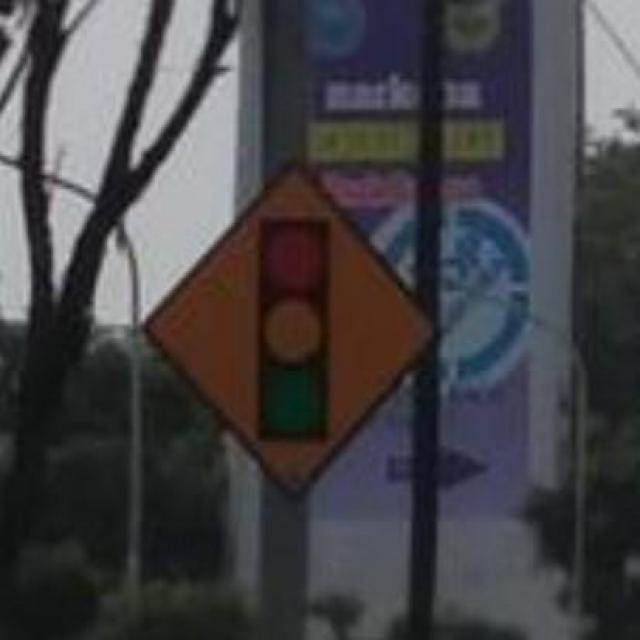traffic sign: (154, 180, 430, 490)
